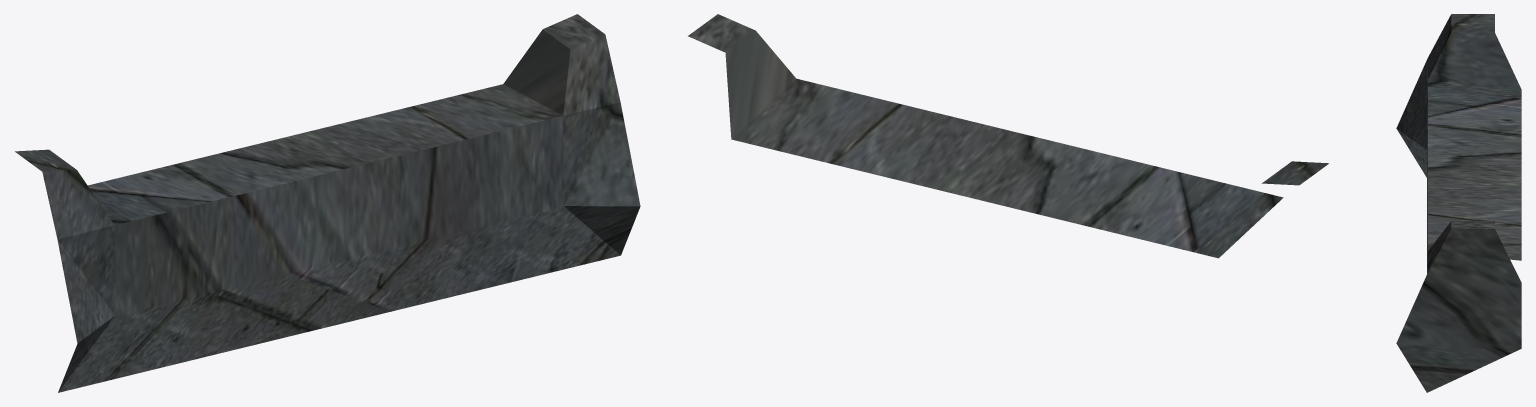
3 views of the same model, side by side, from view 1: azimuth 30°, elevation 25°; view 2: azimuth 150°, elevation 25°; view 3: azimuth 270°, elevation 25° (orthographic). The views are drawn at different scales.
Parts seen in each view (by area): view 1: model_Object06; view 2: model_Object06; view 3: model_Object06.
Part boxes in pixels (<box>): model_Object06: <box>15,14,640,392</box>; model_Object06: <box>688,14,1328,258</box>; model_Object06: <box>1396,14,1521,392</box>.
Bounding box in the file's own units: 4 × 1.42 × 0.9851.
1 material, 1 textured.
